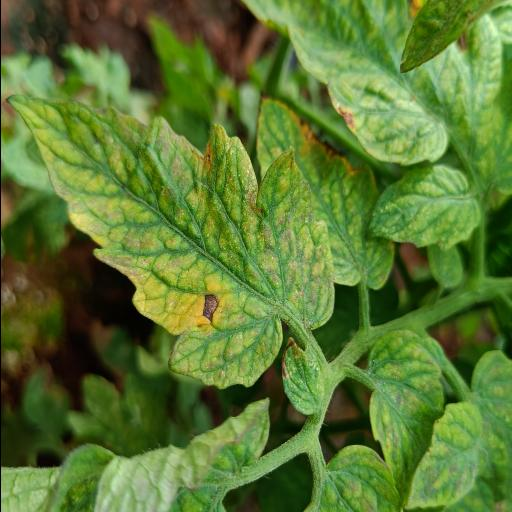Early Blight: (0, 96, 335, 391)
